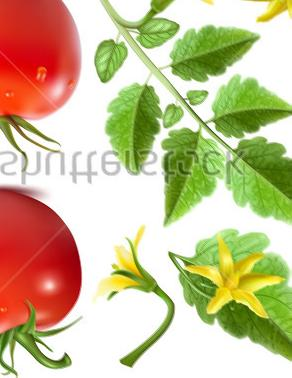Tomato leaf: (143, 115, 240, 232), (101, 69, 168, 183), (171, 21, 278, 84), (226, 143, 292, 244), (194, 77, 292, 138)
